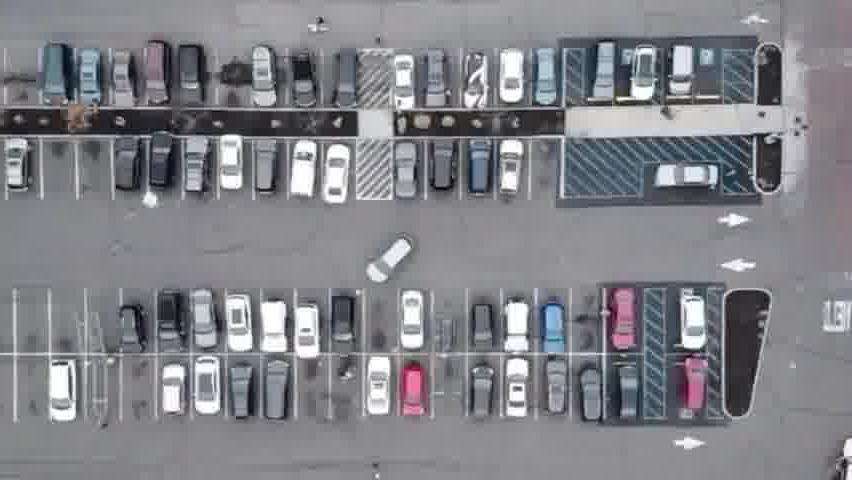car: (366, 231, 419, 285), (361, 359, 399, 426), (47, 358, 82, 428), (40, 39, 76, 104), (172, 45, 207, 110), (318, 142, 353, 207), (648, 159, 719, 191), (139, 42, 170, 111), (109, 139, 145, 198), (504, 360, 537, 424), (261, 364, 293, 430), (189, 355, 223, 417), (492, 139, 525, 202), (146, 133, 179, 196), (225, 361, 257, 424), (328, 293, 359, 358), (330, 50, 361, 114), (284, 147, 317, 207), (288, 301, 322, 359), (153, 289, 184, 352), (160, 360, 191, 423), (251, 138, 283, 199), (609, 285, 639, 350), (399, 285, 428, 350), (251, 44, 279, 111), (468, 364, 499, 424), (398, 364, 429, 424), (258, 299, 290, 357), (623, 43, 656, 99), (224, 294, 254, 355), (390, 144, 419, 206), (3, 135, 34, 193), (427, 141, 457, 200), (465, 139, 494, 200), (500, 301, 531, 358), (497, 43, 526, 103), (421, 51, 450, 111), (577, 365, 605, 427), (663, 41, 694, 97), (179, 139, 208, 198), (682, 356, 711, 415), (587, 43, 616, 101), (73, 51, 102, 109), (118, 302, 148, 358), (615, 362, 642, 424), (679, 292, 707, 351), (530, 45, 557, 106), (289, 50, 315, 113), (392, 56, 419, 116), (193, 287, 218, 351), (462, 54, 490, 111), (542, 359, 569, 418), (219, 130, 245, 191), (540, 302, 569, 355), (109, 51, 134, 112), (470, 305, 494, 358)
